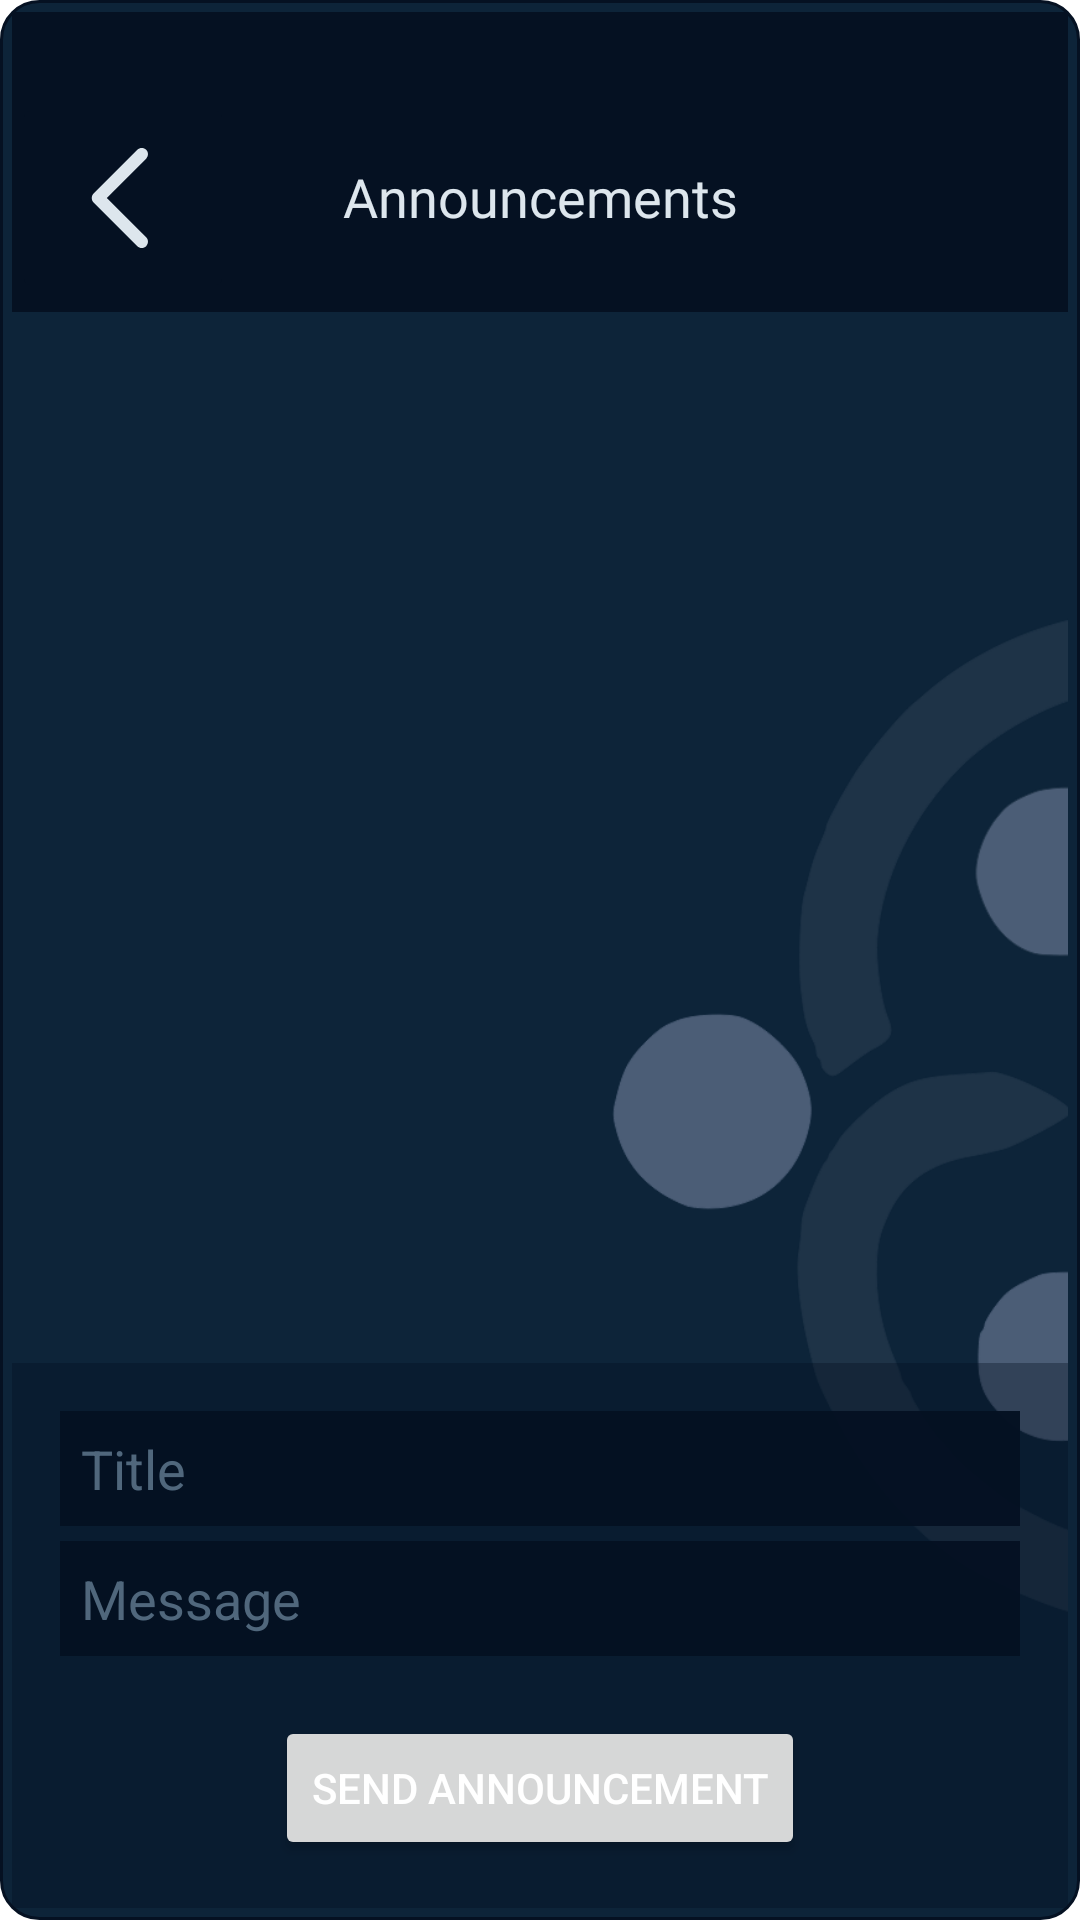

Icon bounding boxes for this 1080 x 1920 phone screenshot, format BBox(x1, y1, x2, y2):
Back: BBox(91, 148, 148, 248)
